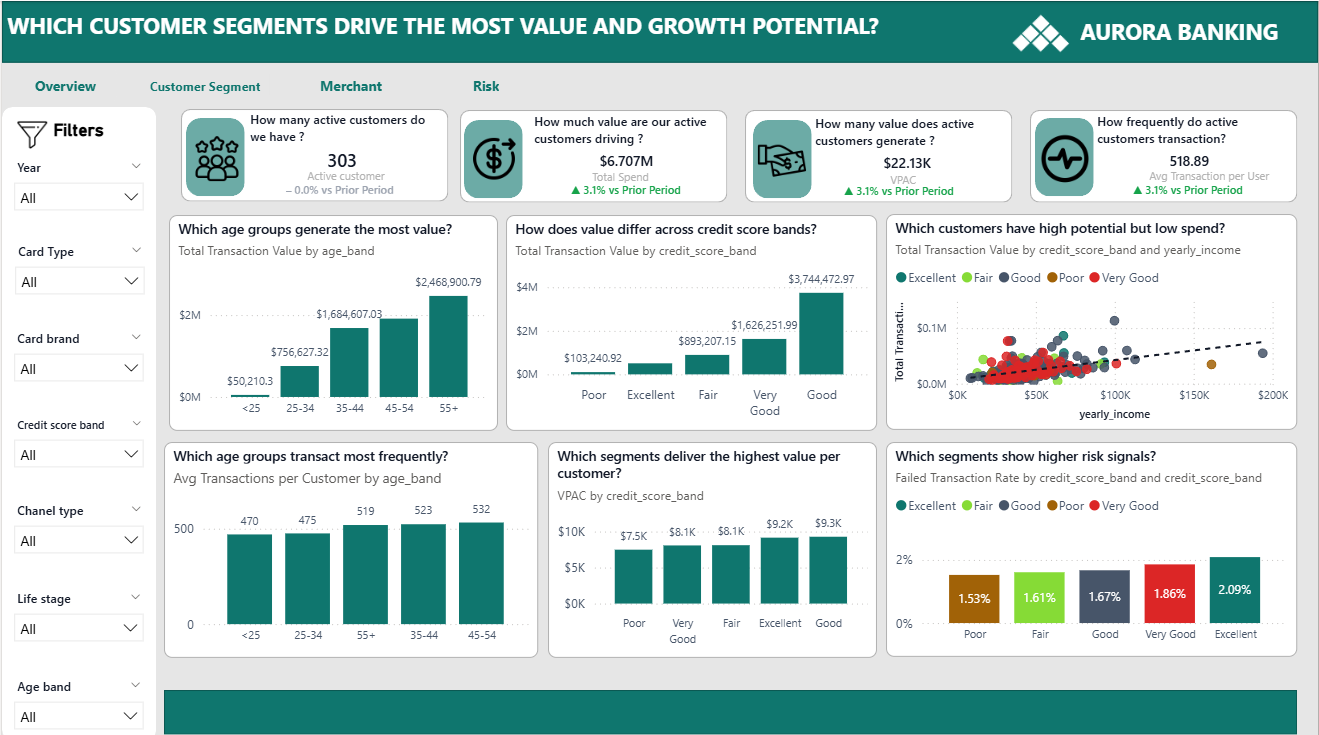

This screenshot's page, from the dashboard's own definition file:
{"tool":"powerbi","page":{"name":"Customer Segmentation ","canvas":[1280,720],"ordinal":1},"visuals":[{"type":"actionButton","title":"btn_campaign","box":[171.8,64.6,163.5,34.6],"z":0,"group":"g9"},{"type":"shape","box":[0,103,150,616],"z":0,"group":"g1"},{"type":"shape","box":[173.6,105.5,260,90],"z":0,"group":"g3"},{"type":"shape","box":[722.7,106,260,90],"z":0,"group":"g5"},{"type":"shape","box":[445.5,106.4,260,90],"z":0,"group":"g4"},{"type":"shape","box":[1000,106.4,260,90],"z":0,"group":"g6"},{"type":"columnChart","title":"Which age groups transact most frequently?","fields":{"Y":["_mesure.Avg Transactions per Customer"],"Category":["dim_customer.age_band"]},"box":[157.8,429.2,363.5,210.1],"z":0},{"type":"actionButton","title":"btn_overview","box":[11.3,64.6,130.8,35],"z":1000,"group":"g9"},{"type":"slicer","fields":{"Values":["dim_date.date.Variation.Date Hierarchy.Year"]},"box":[6.8,153.9,136.4,57.3],"z":1000,"group":"g1"},{"type":"cardVisual","title":"VPAC","fields":{"Data":["_mesure.Avg Transactions per Customer Change Label"]},"box":[1068.2,156.4,171.8,52.7],"z":1000,"group":"g6"},{"type":"actionButton","title":"btn_insight","box":[706.8,63,130,35],"z":1500,"group":"g9"},{"type":"slicer","fields":{"Values":["customer_churn_base.age_band"]},"box":[7.1,657.9,135.7,61.2],"z":1500,"group":"g1"},{"type":"actionButton","title":"btn_customer","box":[534.6,64.6,142.6,34.6],"z":2000,"group":"g9"},{"type":"cardVisual","title":"How many active customers do we have ? ","fields":{"Data":["_mesure.Active Customers"]},"box":[236.2,107.9,189.1,81.8],"z":2000,"group":"g3"},{"type":"cardVisual","title":"How frequently do active customers transaction?","fields":{"Data":["_mesure.Avg Transactions per Customer"]},"box":[1060,109.1,189.1,81.8],"z":2000,"group":"g6"},{"type":"textbox","box":[7.3,110.3,135.5,34.5],"z":2000,"group":"g1"},{"type":"columnChart","title":"Which segments show higher risk signals?","fields":{"Y":["_mesure.Failed Transaction Rate"],"Category":["customer_churn_base.credit_score_band"],"Series":["dim_customer.credit_score_band"]},"box":[860,429.1,400,209.1],"z":2000},{"type":"actionButton","title":"btn_product ","box":[364.9,64.6,139.9,34.6],"z":3000,"group":"g9"},{"type":"textbox","box":[1110.9,155.5,138.2,27.3],"z":3000,"group":"g6"},{"type":"cardVisual","title":"VPAC","fields":{"Data":["_mesure.Net Successful Transactions Value Change Label"]},"box":[521,156.4,171.8,52.7],"z":3000,"group":"g4"},{"type":"cardVisual","title":"VPAC","fields":{"Data":["_mesure.VPAC Change Label"]},"box":[787.2,158.2,171.8,49.1],"z":3000,"group":"g5"},{"type":"cardVisual","title":"VPAC","fields":{"Data":["_mesure.Active Customers Change Label"]},"box":[242.5,159.6,171.8,45.5],"z":3000,"group":"g3"},{"type":"slicer","fields":{"Values":["dim_card.card_type"]},"box":[8,235.2,135.7,60.3],"z":3000,"group":"g1"},{"type":"columnChart","title":"How does value differ across credit score bands?","fields":{"Category":["dim_customer.credit_score_band"],"Y":["_mesure.Total Transaction Value"]},"box":[490.5,208.2,360.9,210],"z":4000},{"type":"slicer","fields":{"Values":["dim_card.card_brand"]},"box":[6.8,319.6,136.4,60.9],"z":4000,"group":"g1"},{"type":"columnChart","title":"Which segments deliver the highest value per customer?","fields":{"Category":["dim_customer.credit_score_band"],"Y":["_mesure.VPAC"]},"box":[530.6,429.2,320.1,210.1],"z":5000},{"type":"slicer","fields":{"Values":["fact_transactions.channel_type"]},"box":[6.8,486.8,136.4,61.8],"z":5000,"group":"g1"},{"type":"slicer","fields":{"Values":["dim_customer.life_stage"]},"box":[7.1,572.7,135.7,61.2],"z":6000,"group":"g1"},{"type":"columnChart","title":"Which age groups generate the most value?","fields":{"Category":["dim_customer.age_band"],"Y":["_mesure.Total Transaction Value"]},"box":[162,208,320,210],"z":7000},{"type":"slicer","fields":{"Values":["dim_customer.credit_score_band"]},"box":[6.8,404.6,136.4,58.2],"z":7000,"group":"g1"},{"type":"scatterChart","title":"Which customers have high potential but low spend?","fields":{"Y":["_mesure.Total Transaction Value"],"X":["dim_customer.yearly_income"],"Series":["dim_customer.credit_score_band"]},"box":[860,207.3,400,210],"z":8000},{"type":"shape","box":[0,0,1280,60],"z":9000},{"type":"textbox","box":[0,3.9,931.8,53.5],"z":10000},{"type":"textbox","box":[1043.6,9.7,236.4,39.9],"z":11000,"group":"g8"},{"type":"shape","box":[157.8,670.3,1102.2,43.4],"z":11000},{"type":"group","id":"g1","title":"Filter page","box":[0,103,150,616.1],"z":14000},{"type":"group","id":"g2","title":"Group 2","box":[173.6,105.5,260,100],"z":15000},{"type":"group","id":"g3","title":"kpi VPAC","box":[173.6,105.5,260,99.6],"z":16000,"group":"g2"},{"type":"group","id":"g4","title":"Group 3","box":[445.5,106.4,260,102.7],"z":16000},{"type":"group","id":"g5","title":"Group 4","box":[722.7,106,260,101.3],"z":17000},{"type":"group","id":"g6","title":"Group 5","box":[1000,106.4,260,102.7],"z":18000},{"type":"image","box":[0,115.5,59.1,29.1],"z":19000},{"type":"cardVisual","title":"How much value are our active customers driving ?","fields":{"Data":["_mesure.Net Successful Transaction Value"]},"box":[512.8,109.1,189.1,81.8],"z":19500,"group":"g4"},{"type":"cardVisual","title":"How many value does active customers generate ?","fields":{"Data":["_mesure.VPAC"]},"box":[786.3,110.9,189.1,81.8],"z":19501,"group":"g5"},{"type":"textbox","box":[290.9,155.5,104.5,27.3],"z":19504,"group":"g2"},{"type":"textbox","box":[569.1,156.4,75.5,27.3],"z":19505,"group":"g4"},{"type":"textbox","box":[859.1,158.2,43.6,27.3],"z":19506,"group":"g5"},{"type":"group","id":"g7","title":"Group 2","box":[969.7,0,310.3,63.2],"z":20000},{"type":"shape","box":[449.1,115.5,57.3,76.4],"z":21000},{"type":"image","box":[969.7,0,82.7,63.6],"z":21007,"group":"g8"},{"type":"shape","box":[179.1,113.6,57.3,76.4],"z":22000},{"type":"shape","box":[730,115.5,57.3,76.4],"z":22500},{"type":"shape","box":[1004.5,113.6,57.3,76.4],"z":22750},{"type":"image","box":[173.6,128.2,69.1,50],"z":23000},{"type":"image","box":[443.6,128.2,69.1,50],"z":24000},{"type":"image","box":[723.6,130,69.1,50],"z":25000},{"type":"image","box":[999.1,128.2,69.1,50],"z":26000},{"type":"group","id":"g8","title":"Group 6","box":[969.7,0,310.3,63.2],"z":26001,"group":"g7"},{"type":"group","id":"g9","title":"Group 1","box":[11.3,63,825.5,36.6],"z":26001}]}

Visuals, with their boxes in screenshot pixels (x1, y1, x2, y2), scaled from the page's 1280x720 canvas onto the 1319x735 screenshot:
"btn_campaign" actionButton: box(177, 66, 346, 101)
shape: box(0, 105, 155, 734)
shape: box(179, 108, 447, 200)
shape: box(745, 108, 1013, 200)
shape: box(459, 109, 727, 200)
shape: box(1030, 109, 1298, 200)
"Which age groups transact most frequently?" columnChart: box(163, 438, 537, 653)
"btn_overview" actionButton: box(12, 66, 146, 102)
slicer - dim_date.date.Variation.Date Hierarchy.Year: box(7, 157, 148, 216)
"VPAC" cardVisual: box(1101, 160, 1278, 213)
"btn_insight" actionButton: box(728, 64, 862, 100)
slicer - customer_churn_base.age_band: box(7, 672, 147, 734)
"btn_customer" actionButton: box(551, 66, 698, 101)
"How many active customers do we have ? " cardVisual: box(243, 110, 438, 194)
"How frequently do active customers transaction?" cardVisual: box(1092, 111, 1287, 195)
textbox: box(8, 113, 147, 148)
"Which segments show higher risk signals?" columnChart: box(886, 438, 1298, 651)
"btn_product " actionButton: box(376, 66, 520, 101)
textbox: box(1145, 159, 1287, 187)
"VPAC" cardVisual: box(537, 160, 714, 213)
"VPAC" cardVisual: box(811, 161, 988, 212)
"VPAC" cardVisual: box(250, 163, 427, 209)
slicer - dim_card.card_type: box(8, 240, 148, 302)
"How does value differ across credit score bands?" columnChart: box(505, 213, 877, 427)
slicer - dim_card.card_brand: box(7, 326, 148, 388)
"Which segments deliver the highest value per customer?" columnChart: box(547, 438, 877, 653)
slicer - fact_transactions.channel_type: box(7, 497, 148, 560)
slicer - dim_customer.life_stage: box(7, 585, 147, 647)
"Which age groups generate the most value?" columnChart: box(167, 212, 497, 427)
slicer - dim_customer.credit_score_band: box(7, 413, 148, 472)
"Which customers have high potential but low spend?" scatterChart: box(886, 212, 1298, 426)
shape: box(0, 0, 1318, 61)
textbox: box(0, 4, 960, 59)
textbox: box(1075, 10, 1318, 51)
shape: box(163, 684, 1298, 729)
"Filter page" group: box(0, 105, 155, 734)
"Group 2" group: box(179, 108, 447, 210)
"kpi VPAC" group: box(179, 108, 447, 209)
"Group 3" group: box(459, 109, 727, 213)
"Group 4" group: box(745, 108, 1013, 212)
"Group 5" group: box(1030, 109, 1298, 213)
image: box(0, 118, 61, 148)
"How much value are our active customers driving ?" cardVisual: box(528, 111, 723, 195)
"How many value does active customers generate ?" cardVisual: box(810, 113, 1005, 197)
textbox: box(300, 159, 407, 187)
textbox: box(586, 160, 664, 188)
textbox: box(885, 161, 930, 189)
"Group 2" group: box(999, 0, 1318, 65)
shape: box(463, 118, 522, 196)
image: box(999, 0, 1084, 65)
shape: box(185, 116, 244, 194)
shape: box(752, 118, 811, 196)
shape: box(1035, 116, 1094, 194)
image: box(179, 131, 250, 182)
image: box(457, 131, 528, 182)
image: box(746, 133, 817, 184)
image: box(1030, 131, 1101, 182)
"Group 6" group: box(999, 0, 1318, 65)
"Group 1" group: box(12, 64, 862, 102)
